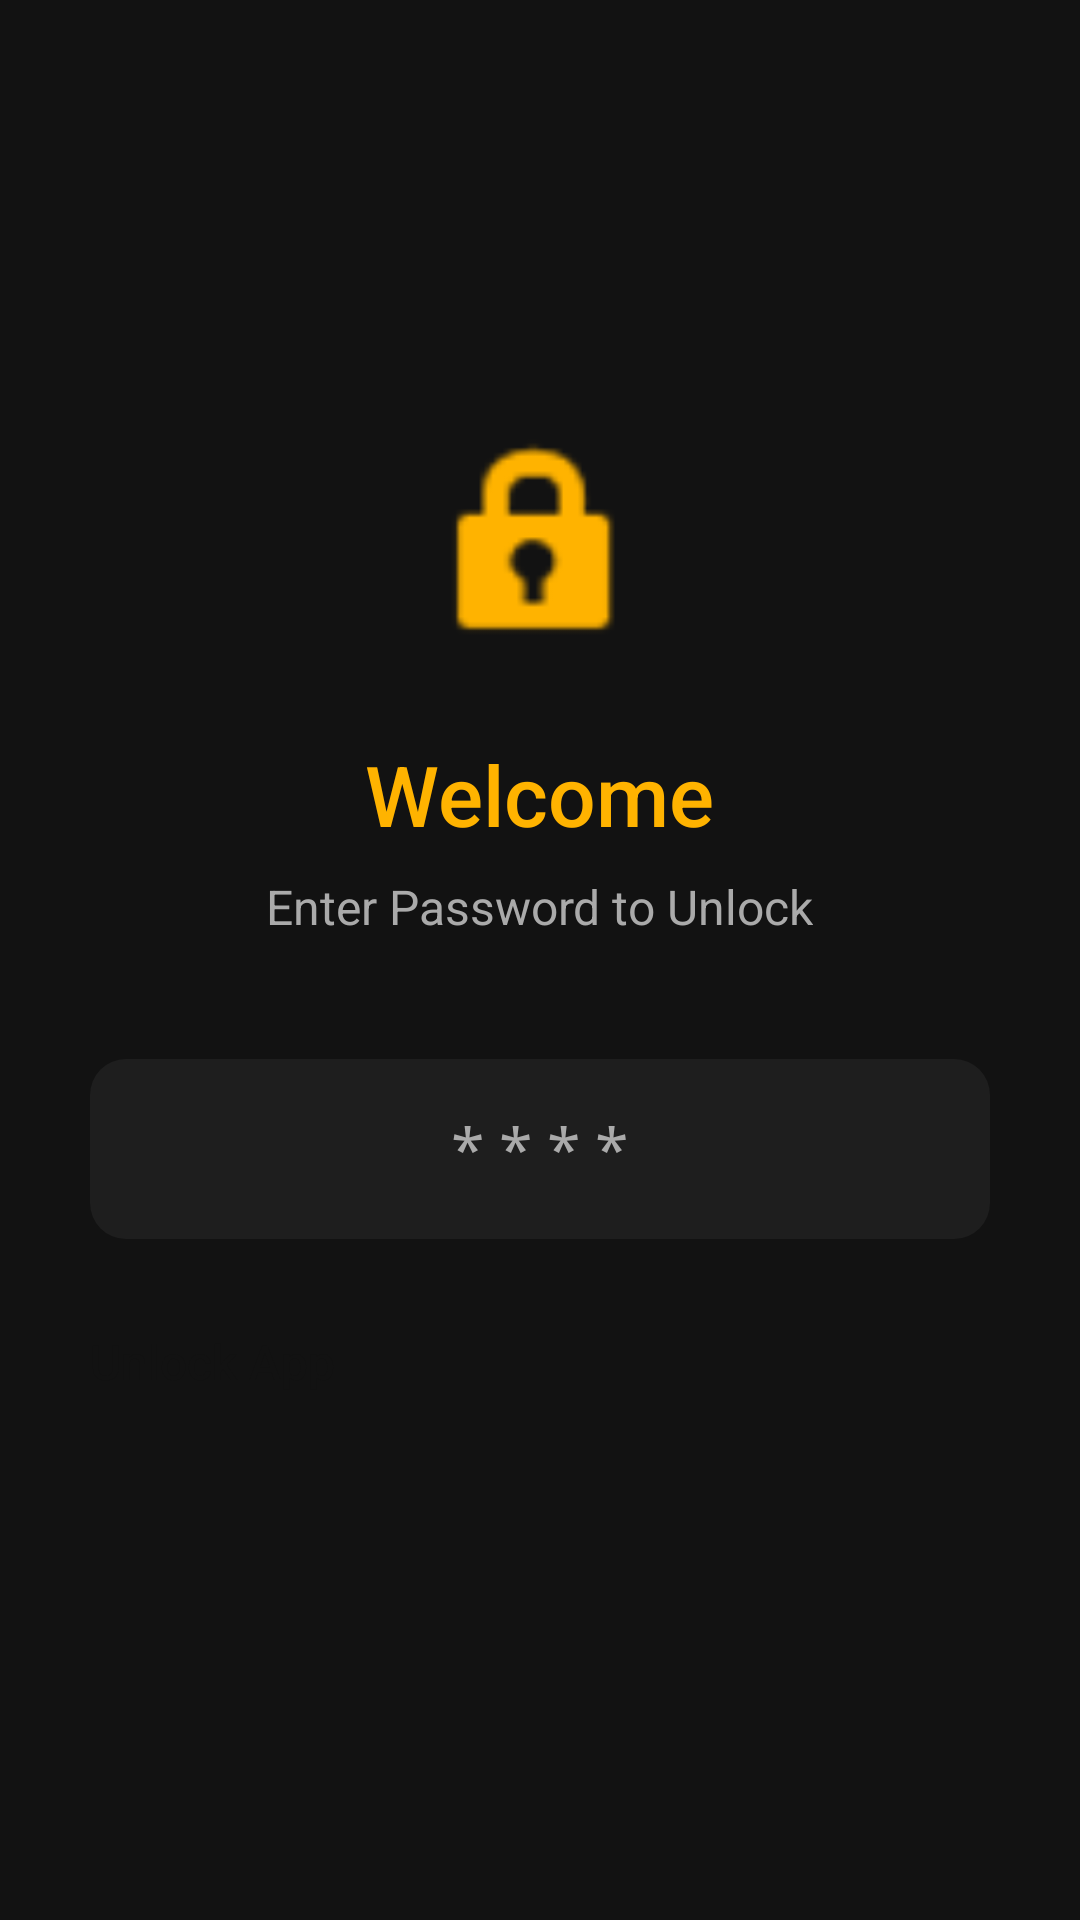

Point at icon controls on the screen. Image size 1080px x 1920px, points as [x,y].
lock idle: [534,538]
